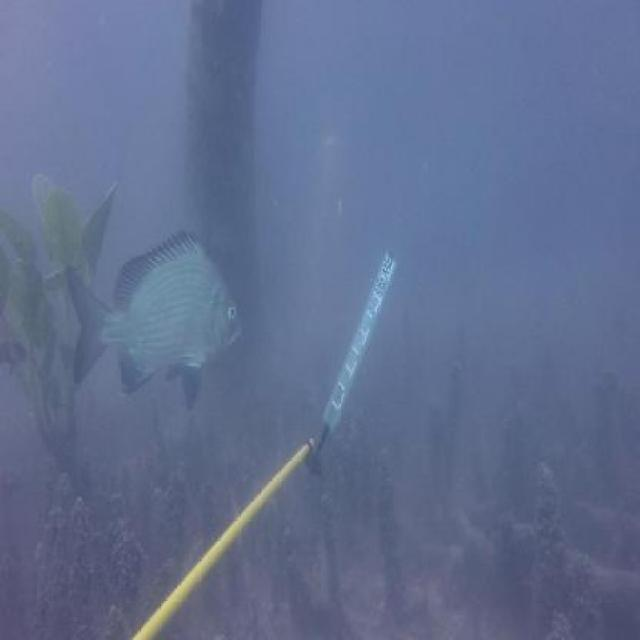acanthopagrus_palmaris: (62, 228, 242, 414)
